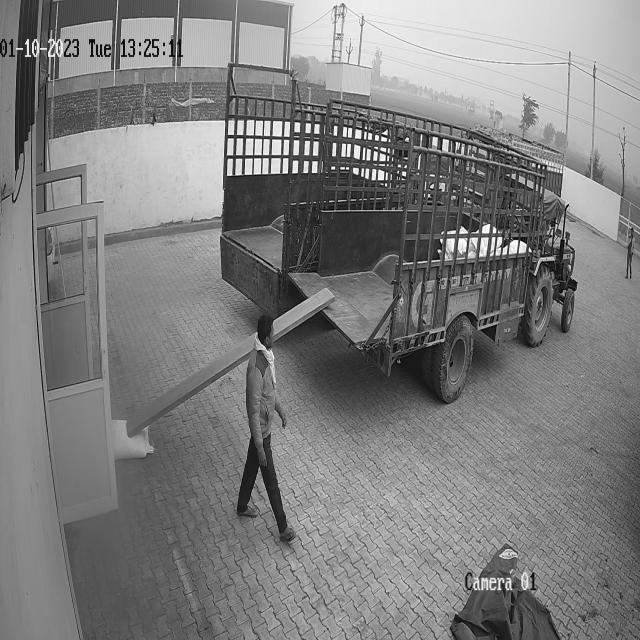sack: (111, 420, 152, 460)
